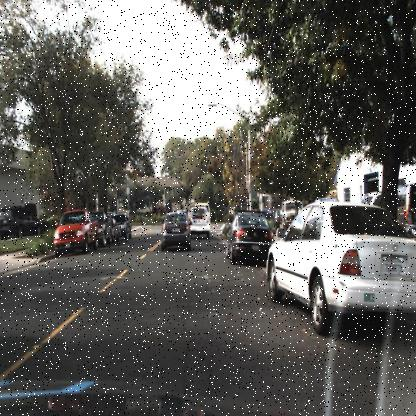car: (265, 198, 416, 336), (224, 206, 274, 264), (224, 208, 274, 263), (51, 206, 98, 259), (0, 205, 42, 241), (159, 207, 191, 252), (185, 196, 212, 238), (276, 197, 305, 234), (90, 207, 115, 248), (112, 209, 134, 243)
truck: (188, 202, 210, 238)
